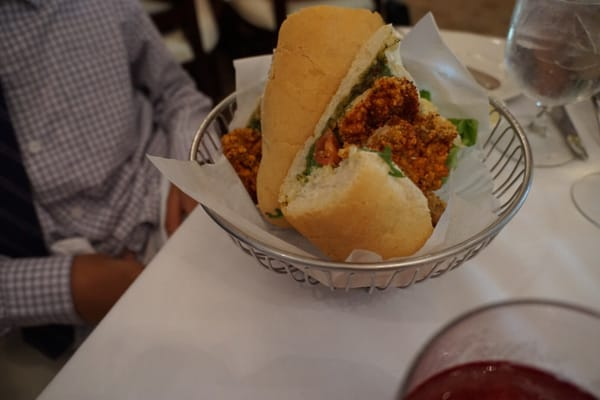soup: (236, 4, 468, 262)
sushi: (139, 17, 535, 293), (396, 297, 600, 395)
